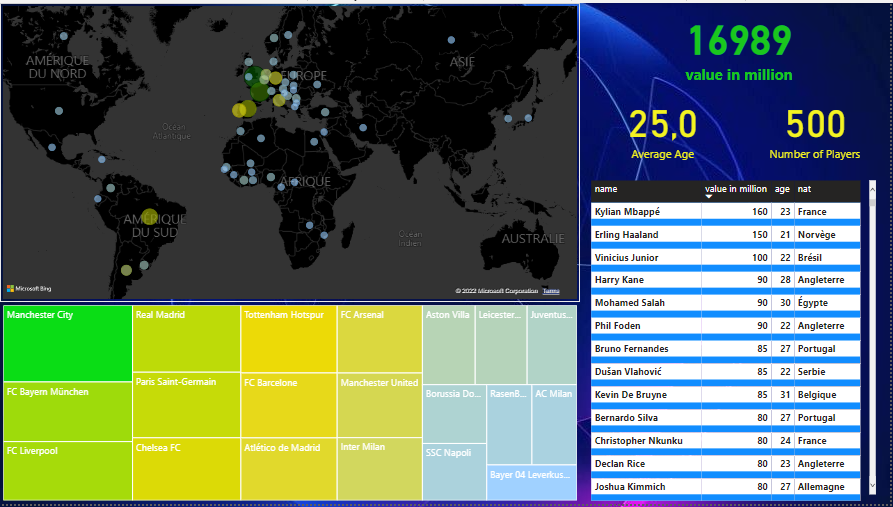

What the dashboard file says about the page in this screenshot:
{"tool":"powerbi","page":{"name":"Page 1","canvas":[1280,720],"ordinal":0},"visuals":[{"type":"map","fields":{"Size":["Sheet1.value in million"],"Category":["Sheet1.nat"]},"box":[0,0,833.5,429.7],"z":0},{"type":"treemap","fields":{"Group":["Sheet1.clb"],"Values":["Sheet1.value in million"]},"box":[0,429.7,833.5,290.3],"z":1000},{"type":"card","fields":{"Values":["Sheet1.value in million"]},"box":[843.6,0,436.9,120.7],"z":2000},{"type":"tableEx","fields":{"Values":["Sheet1.name","Sheet1.value in million","Sheet1.age","Sheet1.nat"]},"box":[843.6,250.1,419.6,469.9],"z":3000},{"type":"card","fields":{"Values":["Sheet1.age average per name"]},"box":[843.6,120.7,218.4,113.5],"z":4000},{"type":"card","fields":{"Values":["Sheet1.Count of name total for name"]},"box":[1062,120.7,218.4,113.5],"z":5000}]}

Visuals, with their boxes in screenshot pixels (x1, y1, x2, y2), scaled from the page's 1280x720 canvas onto the 893x507 screenshot:
map - Sheet1.value in million x Sheet1.nat: crop(0, 0, 581, 303)
treemap - Sheet1.clb x Sheet1.value in million: crop(0, 303, 581, 506)
card - Sheet1.value in million: crop(589, 0, 892, 85)
tableEx - Sheet1.name x Sheet1.value in million: crop(589, 176, 881, 506)
card - Sheet1.age average per name: crop(589, 85, 741, 165)
card - Sheet1.Count of name total for name: crop(741, 85, 892, 165)
